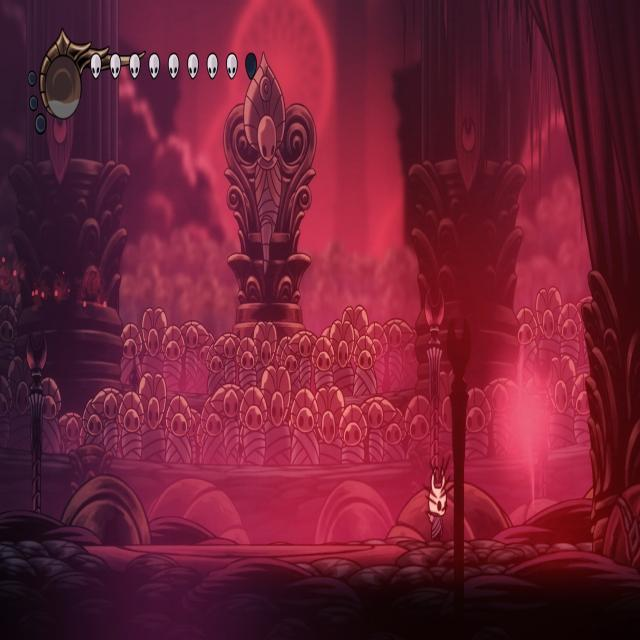Player: (421, 455, 450, 545)
